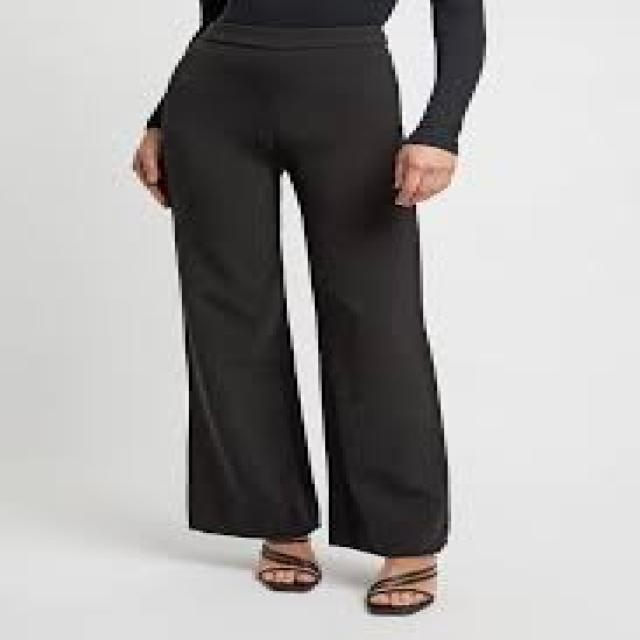pants: (163, 32, 456, 552)
